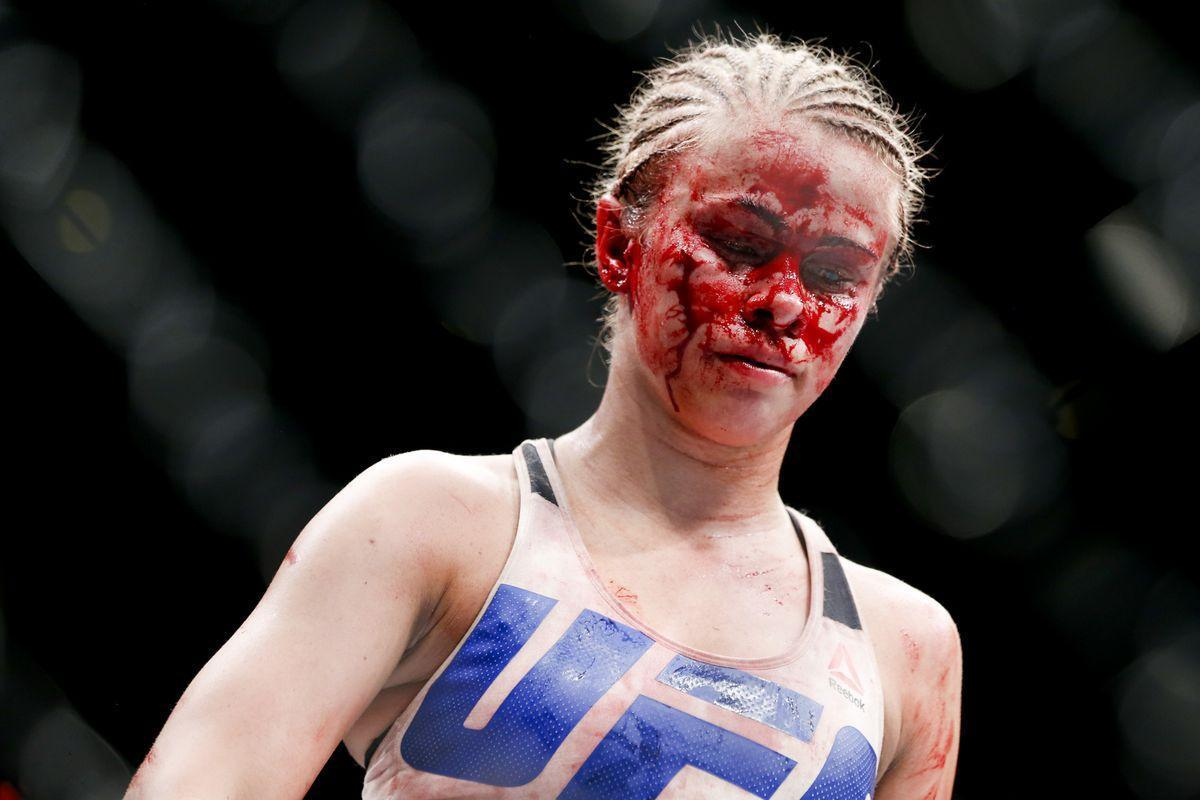Fire: (597, 130, 884, 412)
